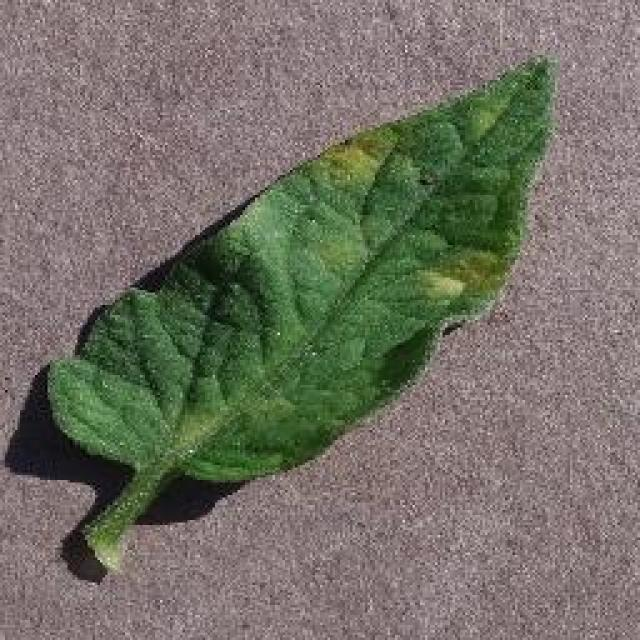Tomato mold leaf: (47, 52, 545, 490)
